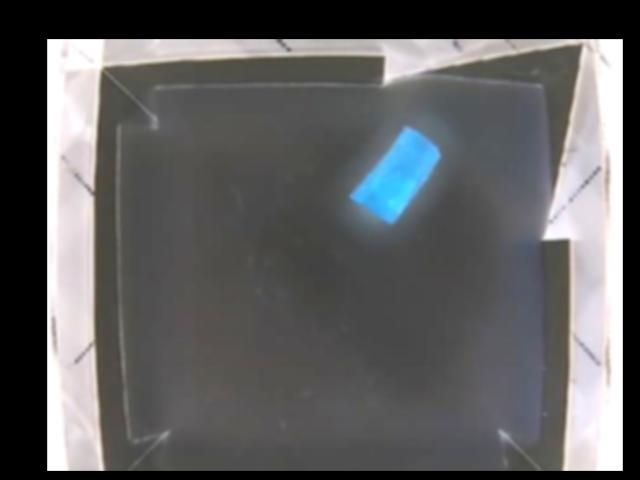Carrot: (350, 127, 444, 223)
